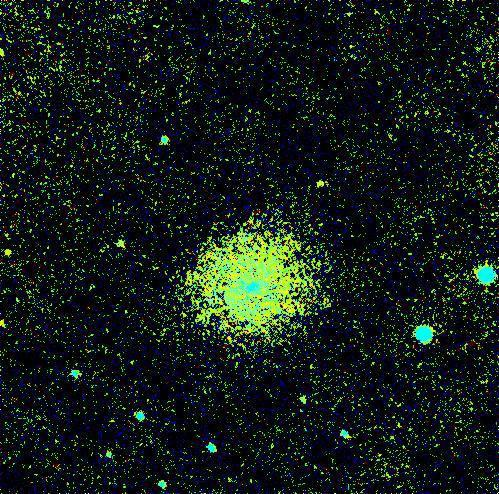star: (304, 166, 334, 196)
